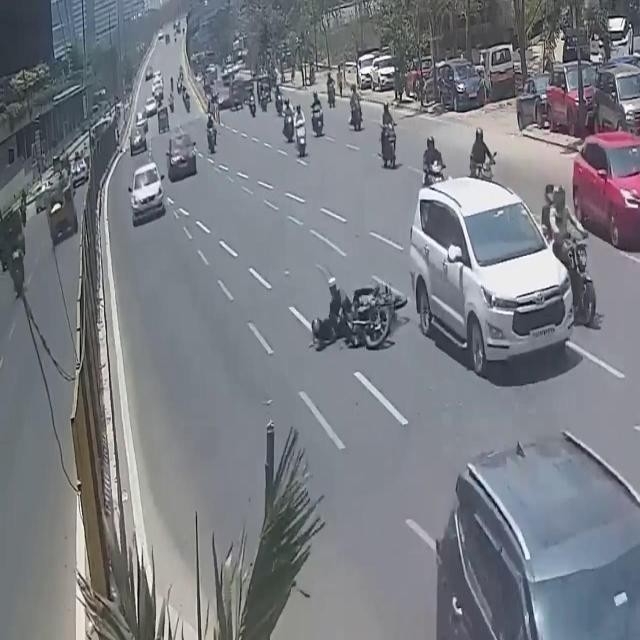accident: (309, 272, 409, 371)
non_accident: (510, 59, 640, 149), (401, 49, 483, 108), (211, 51, 273, 120), (134, 60, 170, 140), (355, 37, 401, 99)
